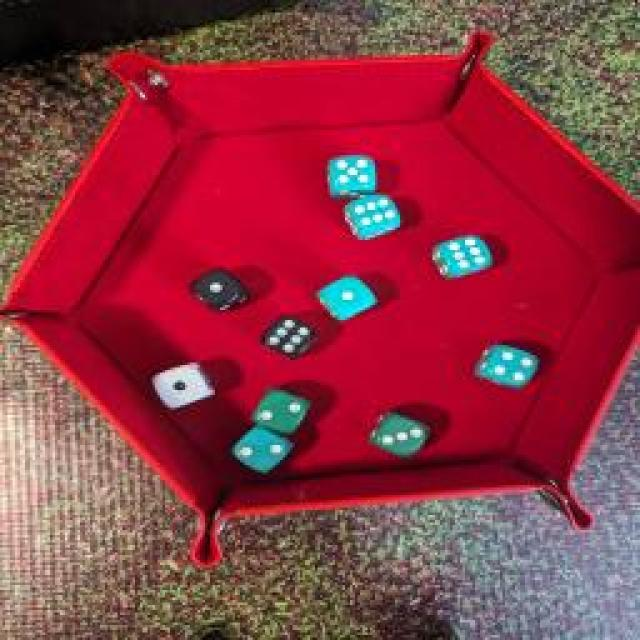dice_1: (149, 355, 221, 415), (180, 263, 250, 315), (311, 273, 379, 325)
dice_2: (244, 385, 314, 437), (234, 424, 298, 478)
dice_4: (360, 406, 430, 462), (471, 338, 541, 390)
dice_5: (318, 150, 388, 200)
dice_6: (427, 228, 495, 284), (342, 191, 406, 244), (259, 308, 319, 360)
